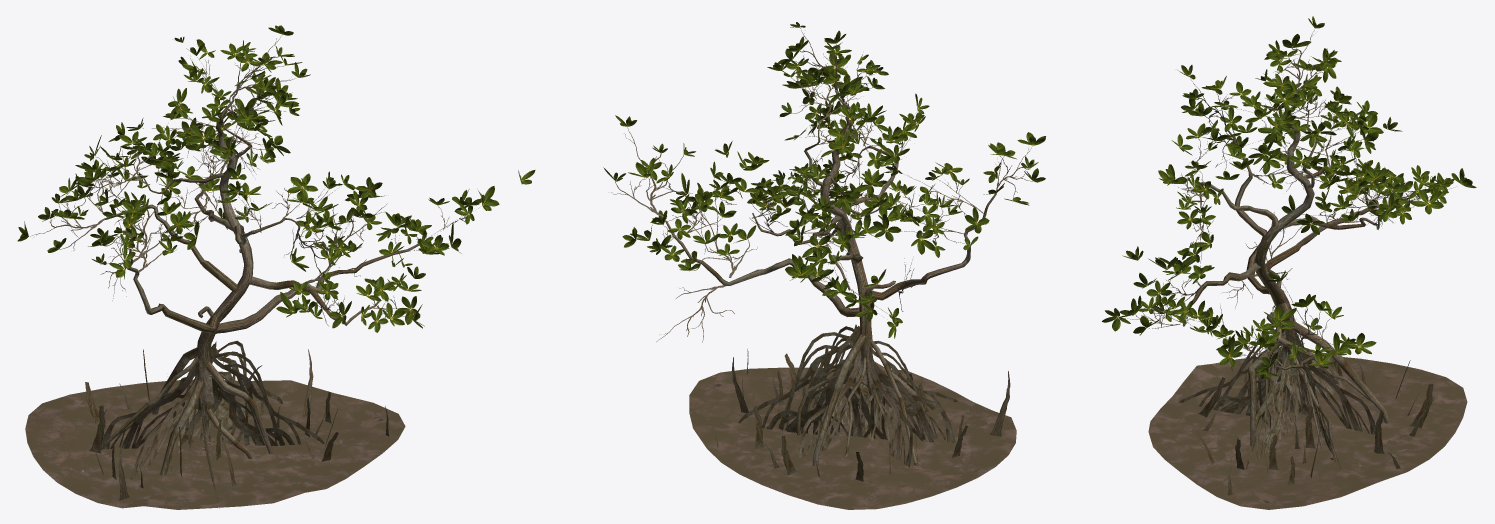
The model's file is mangrove-restored.glb.
3 renders of one model, left to right at view 1: azimuth 30°, elevation 25°; view 2: azimuth 150°, elevation 25°; view 3: azimuth 270°, elevation 25°, orthographic. The views are drawn at different scales.
Visible parts, largest first — view 1: SM_MangroveTree.001_0, Plane_2; view 2: SM_MangroveTree.001_0, Plane_2; view 3: SM_MangroveTree.001_0, Plane_2.
Boxes of the visible parts, x1,y1,x2,y2 form: SM_MangroveTree.001_0: (17, 25, 535, 508); Plane_2: (25, 379, 405, 509); SM_MangroveTree.001_0: (603, 22, 1045, 481); Plane_2: (689, 367, 1016, 509); SM_MangroveTree.001_0: (1102, 16, 1476, 495); Plane_2: (1148, 357, 1467, 509).
Size of the model in its own units: 14.43 by 12.65 by 10.37.
Materials: 3 (3 with a texture image).
